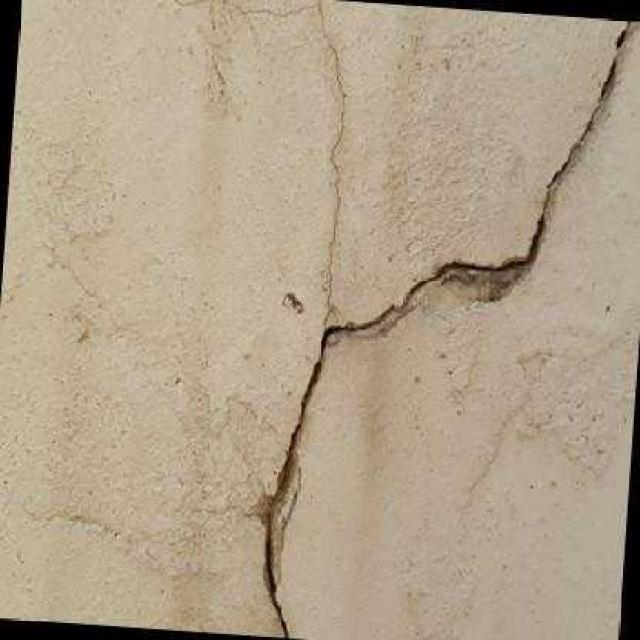D00: (263, 21, 636, 639), (168, 0, 348, 321)
